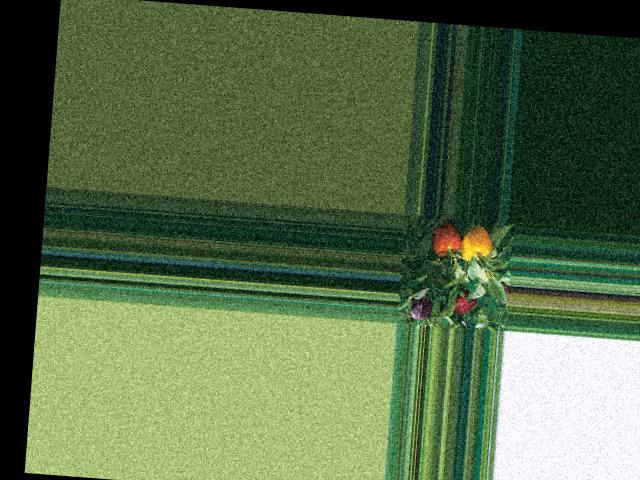bell_pepper: (452, 225, 493, 263)
